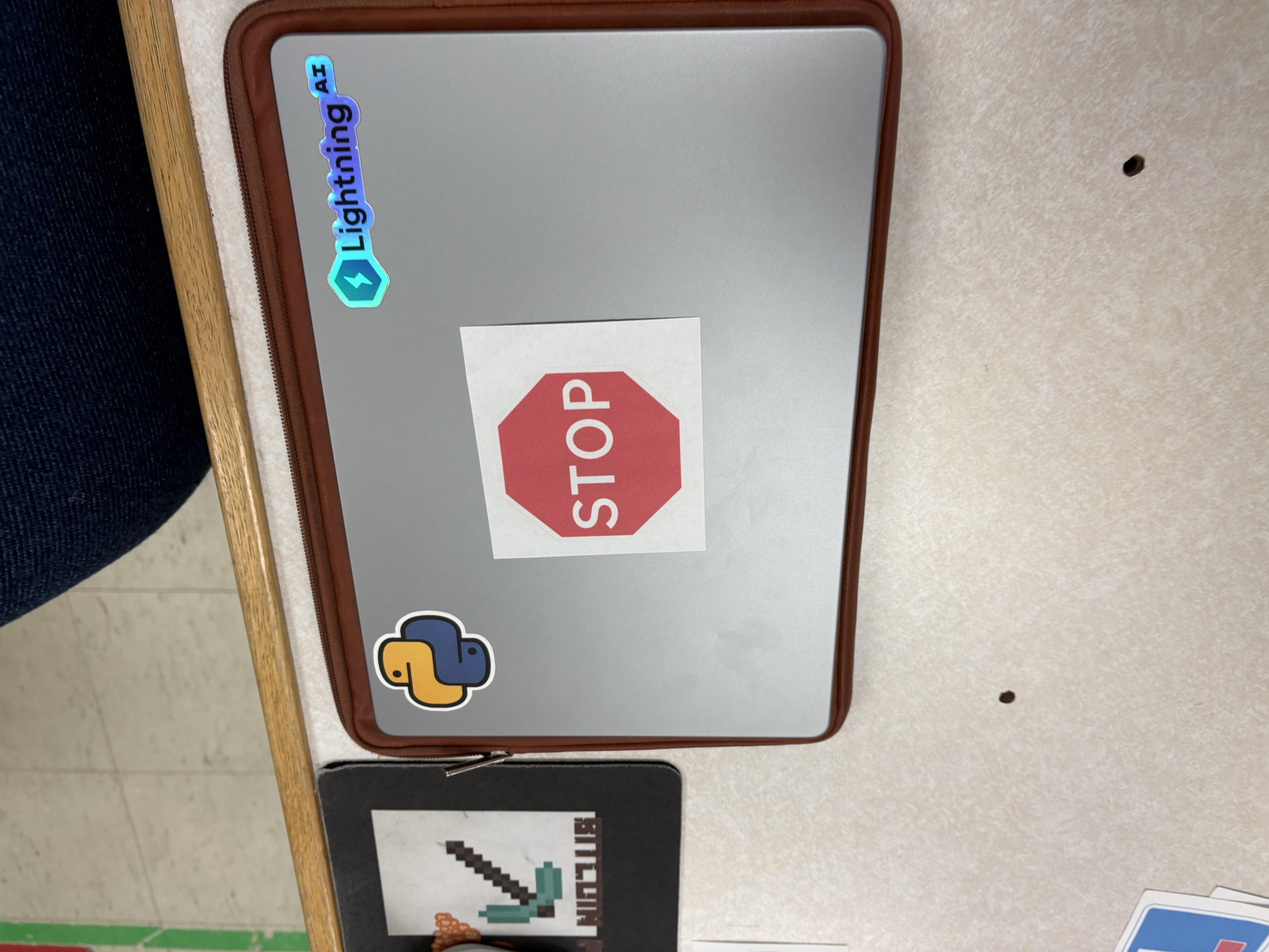Stop: (460, 311, 710, 566)
